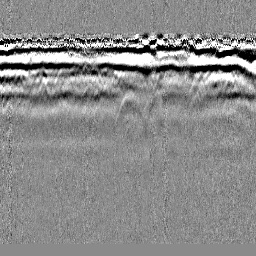cavity: (114, 89, 144, 124)
